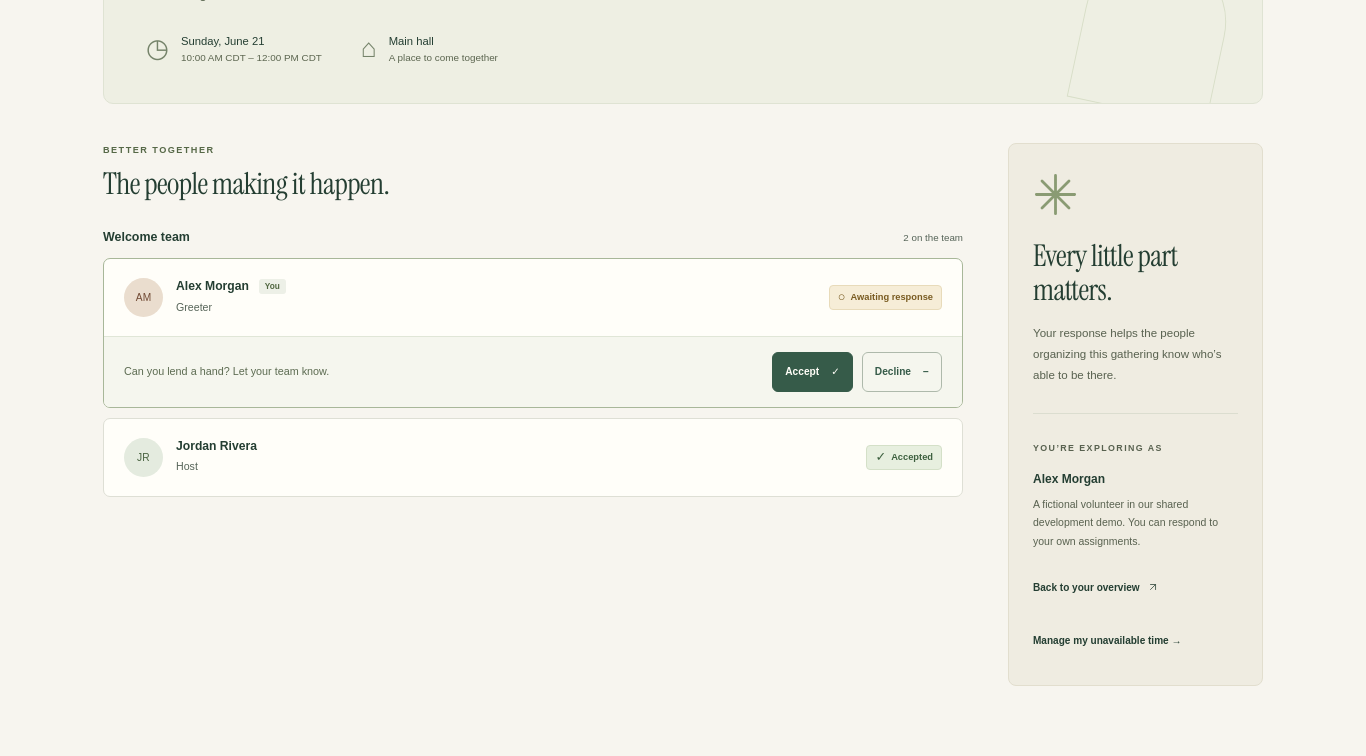
the community demo › saves a Declined response using the current version and updates the visible status
(page scrolled)
Click the button "Decline −". click: (902, 372)
box: [862,352,942,392]
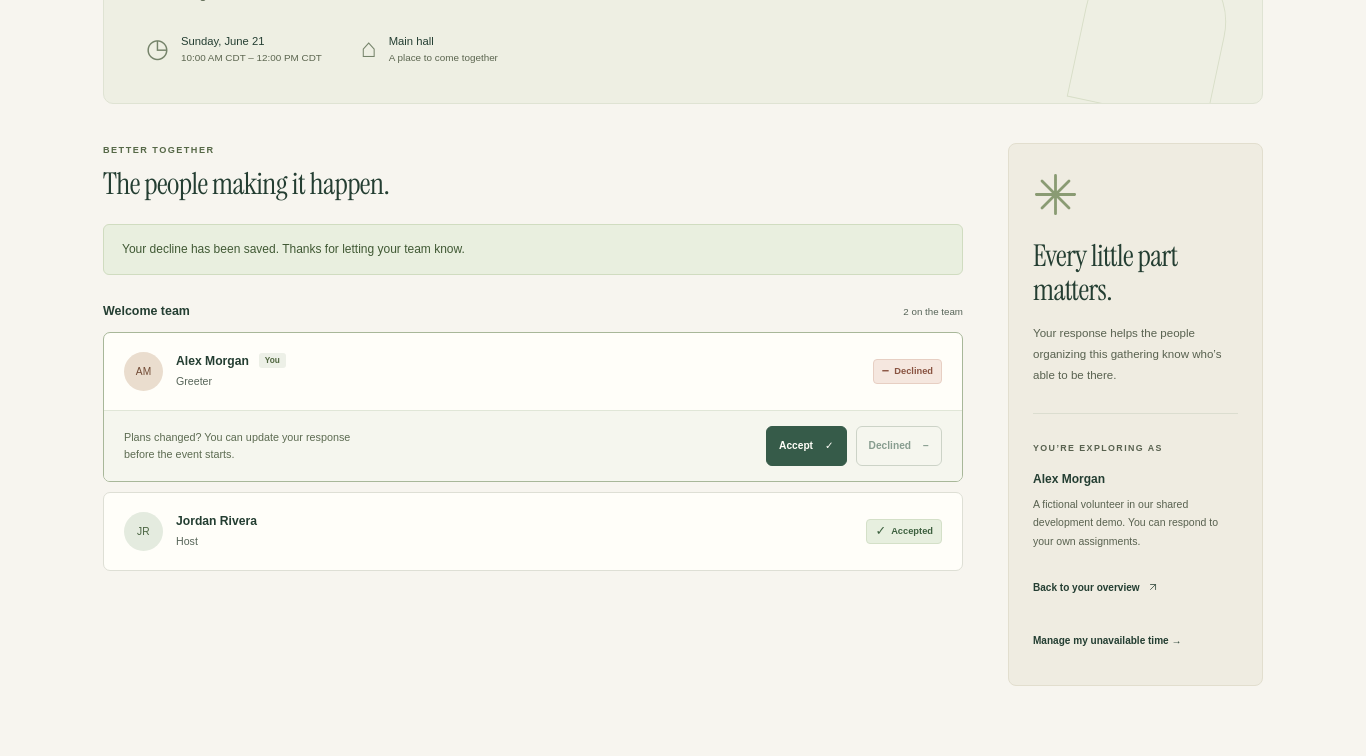
expect the message shows "Your decline has been saved": met, box [122,242,465,256]
expect the button "Declined −" is disabled: met, box [856,426,942,466]
